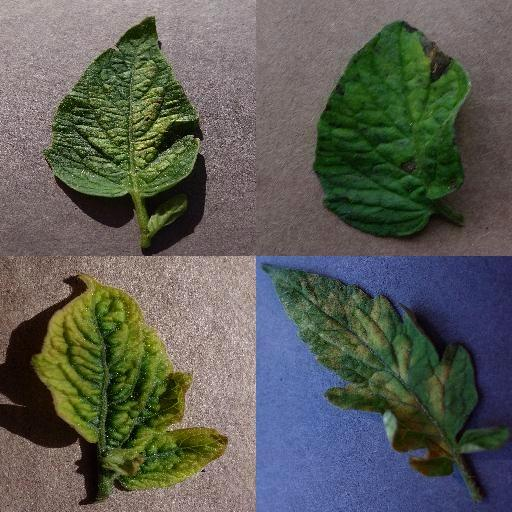Early Blight: (312, 17, 470, 243)
Leaf Mold: (262, 261, 510, 477)
Spider Mites: (46, 16, 200, 196)
Yellow Leaf Curl Virus: (33, 273, 229, 493)
